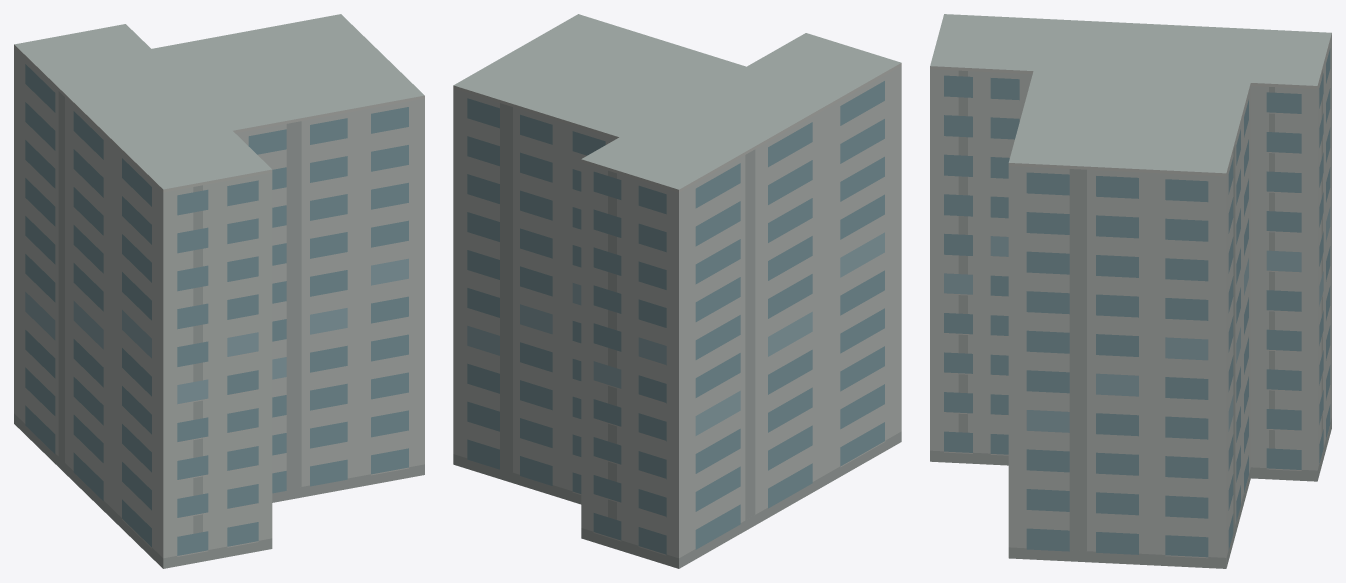
Rendered from residential-3456df6a-e43b-4fc3-96ac-59378c68769d.glb.
3 views of the same model, side by side, from view 1: azimuth 30°, elevation 25°; view 2: azimuth 150°, elevation 25°; view 3: azimuth 270°, elevation 25° (orthographic). The views are drawn at different scales.
Parts seen in each view (by area): view 1: residential-3456df6a-e43b-4fc3-96ac-59378c68769d.tmp; view 2: residential-3456df6a-e43b-4fc3-96ac-59378c68769d.tmp; view 3: residential-3456df6a-e43b-4fc3-96ac-59378c68769d.tmp.
Part boxes in pixels (x1=…): residential-3456df6a-e43b-4fc3-96ac-59378c68769d.tmp: x1=14, y1=14, x2=424, y2=568; residential-3456df6a-e43b-4fc3-96ac-59378c68769d.tmp: x1=453, y1=14, x2=901, y2=568; residential-3456df6a-e43b-4fc3-96ac-59378c68769d.tmp: x1=930, y1=14, x2=1331, y2=568.
Size of the model in its own units: 26.36 by 30.5 by 28.09.
